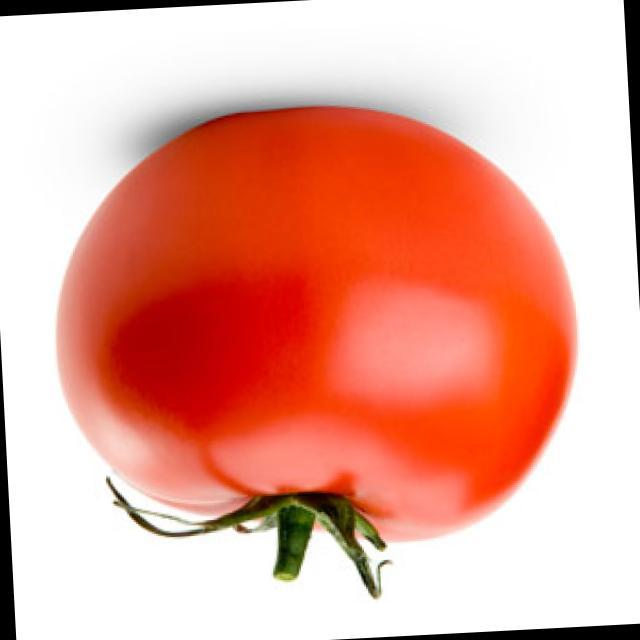Tomato: (22, 77, 625, 629)
